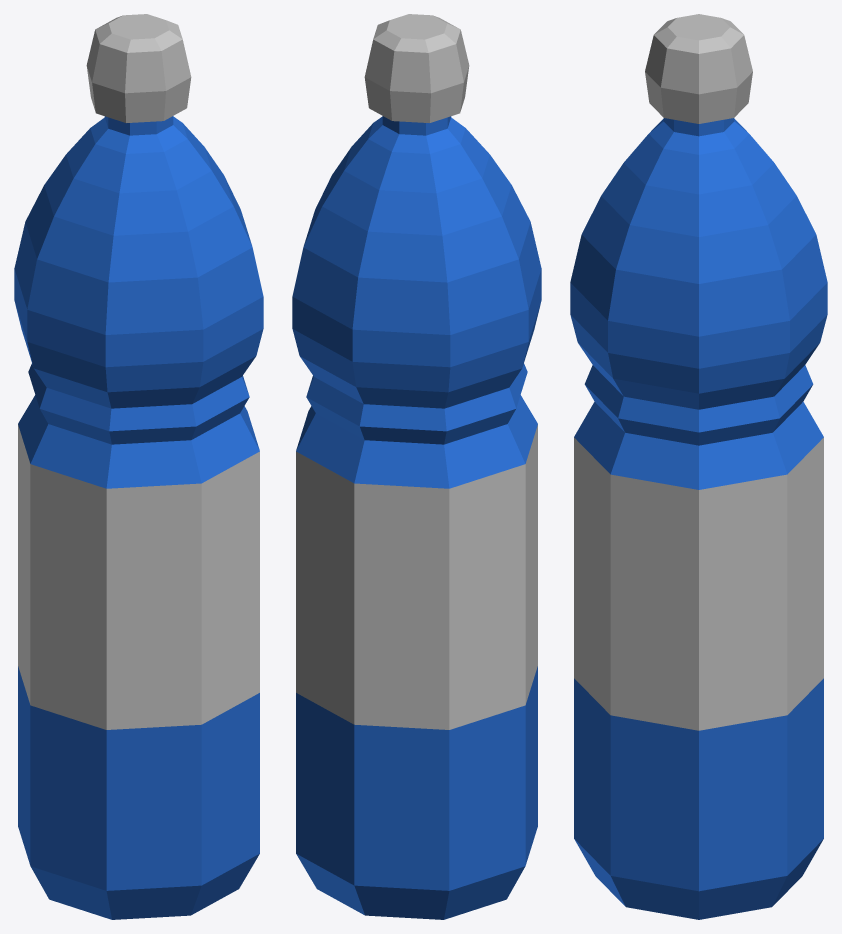
File: Bottle.fbx
3 renders of one model, left to right at view 1: azimuth 30°, elevation 25°; view 2: azimuth 150°, elevation 25°; view 3: azimuth 270°, elevation 25°, orthographic.
Parts seen in each view (by area): view 1: Bottle; view 2: Bottle; view 3: Bottle.
Part boxes in pixels (x1,y1,x2,y2): Bottle: (14, 14, 263, 919); Bottle: (292, 14, 541, 919); Bottle: (570, 14, 827, 919).
Bounding box in the file's own units: 39.87 × 145 × 39.87.
